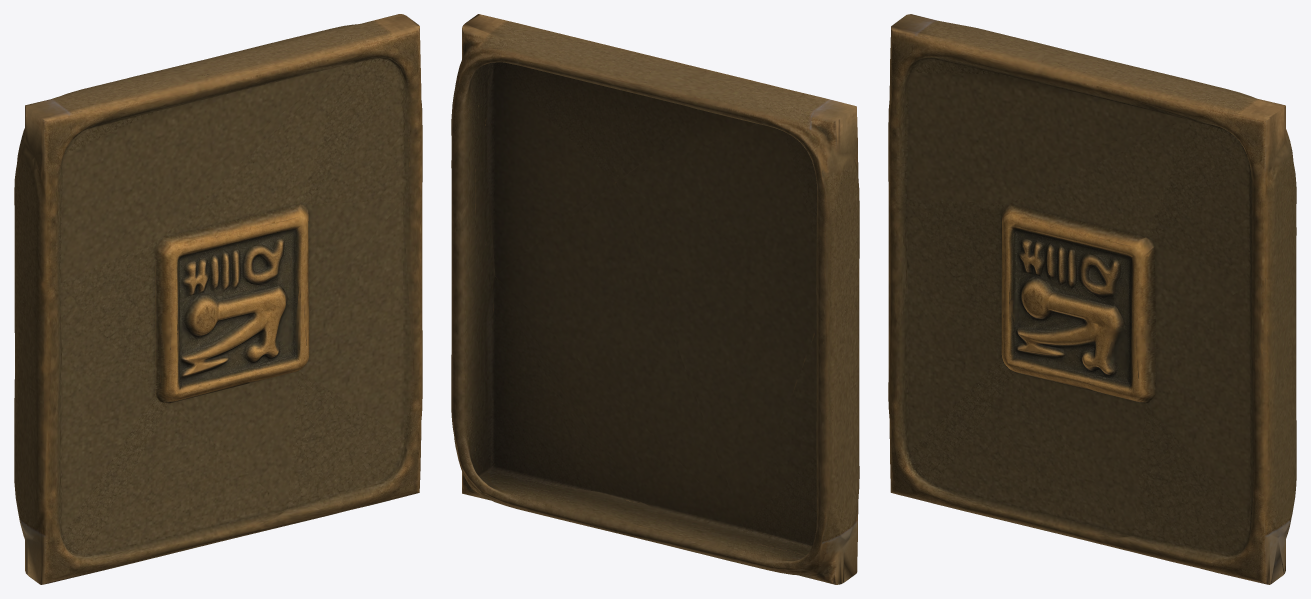
Rendered from glyph_wall.glb.
3 views of the same model, side by side, from view 1: azimuth 30°, elevation 25°; view 2: azimuth 150°, elevation 25°; view 3: azimuth 330°, elevation 25° (orthographic).
Size of the model in its own units: 1.64 by 1.9 by 0.2957.
Materials: 1 (1 with a texture image).
